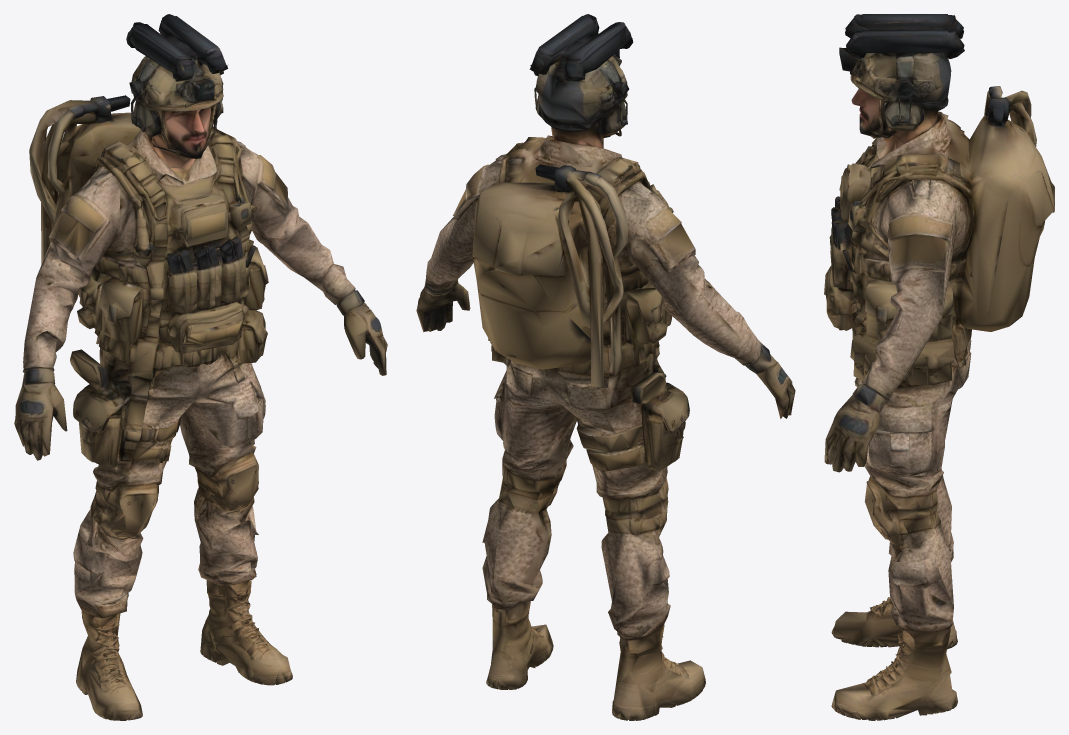
Rendered from soldier_iq_3.glb.
The picture shows the model from 3 angles, left to right: view 1: azimuth 30°, elevation 25°; view 2: azimuth 150°, elevation 25°; view 3: azimuth 270°, elevation 25°; orthographic projection.
Visible parts, largest first — view 1: node_0; view 2: node_0; view 3: node_0.
Part boxes in pixels (x1,y1,x2,y2): node_0: (14, 14, 387, 720); node_0: (416, 14, 795, 720); node_0: (824, 14, 1054, 720).
Size of the model in its own units: 0.6707 by 1.13 by 0.3608.
1 material, 1 textured.
